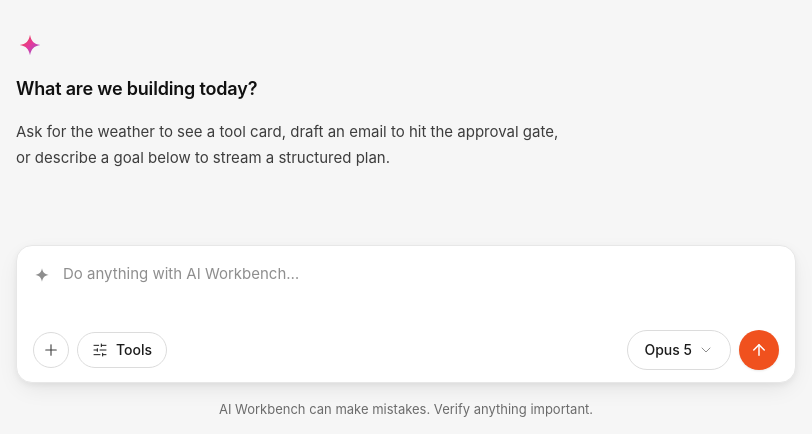
Test: Chat › renders the user message and the streamed assistant reply
The width and height of the screenshot is (812, 434).
Type "Saludos" into the text box at (421,290), box [63,262,779,318]
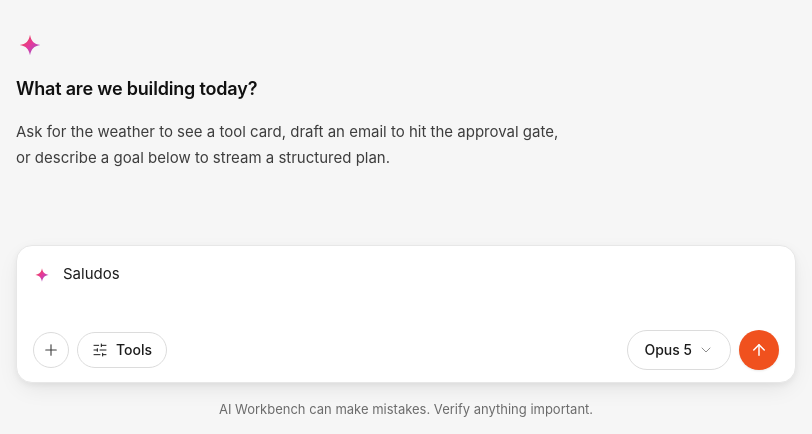
Click the button named "send" at (759,350), box [739,330,779,370]
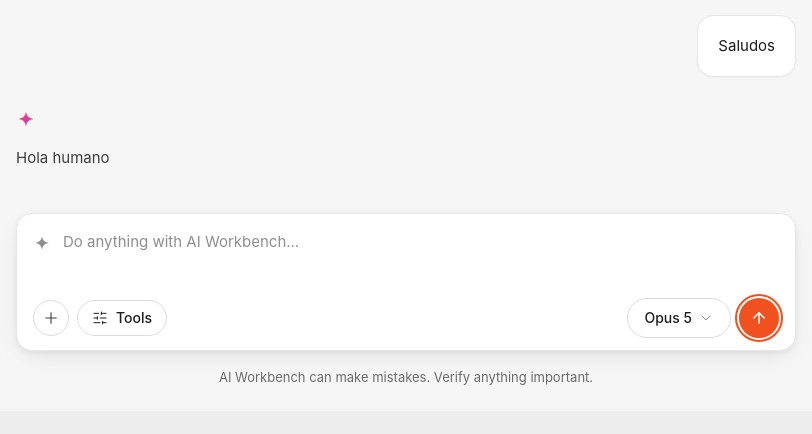
Expected: the text "Hola humano" is shown, [16,148,110,167]
Expected: the text "Saludos" is shown, [718,34,775,58]
